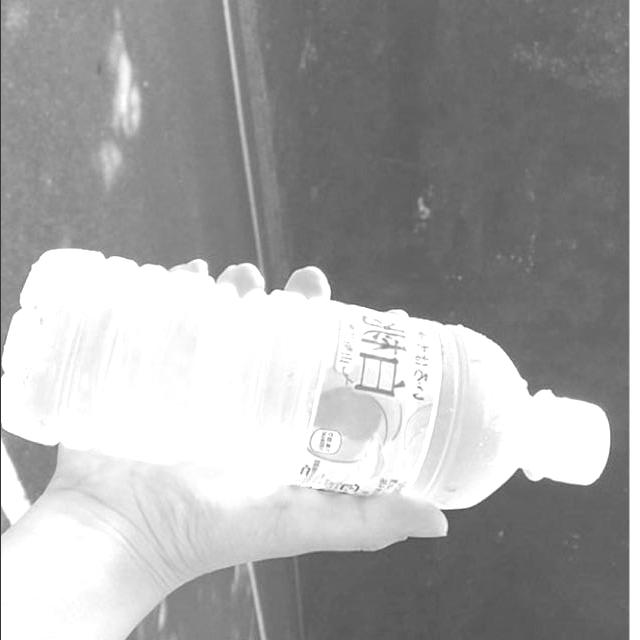bottle: (4, 235, 624, 522)
